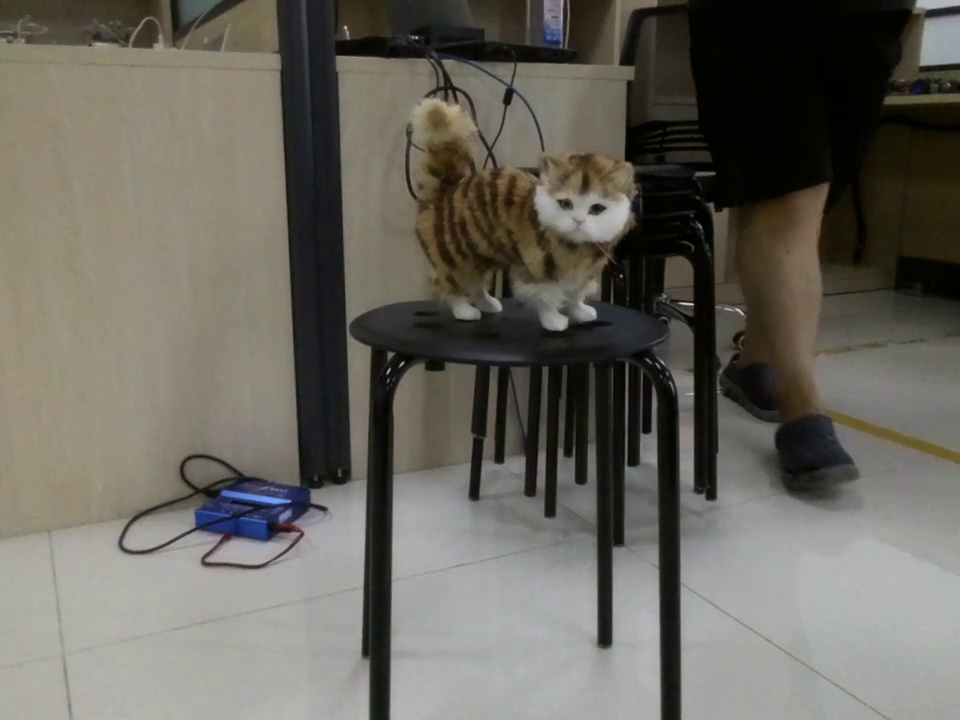cat: (404, 96, 651, 335)
